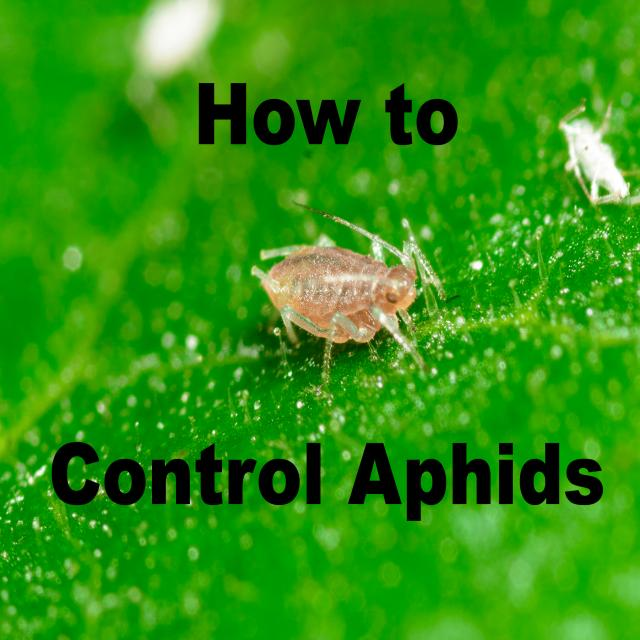Aphid-Grown-: (223, 195, 452, 370)
